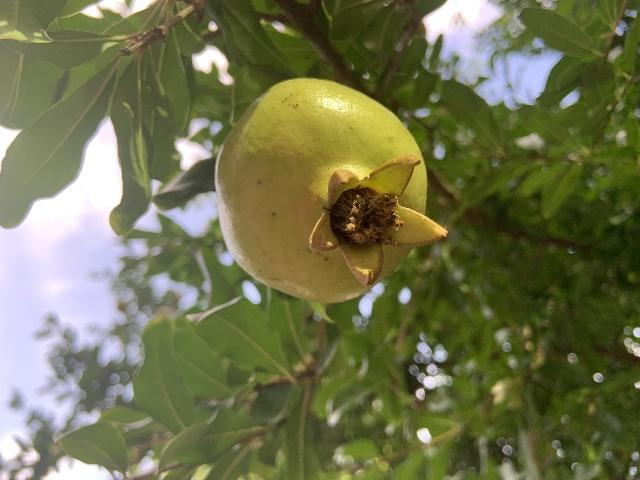mid-growth: (214, 77, 447, 308)
